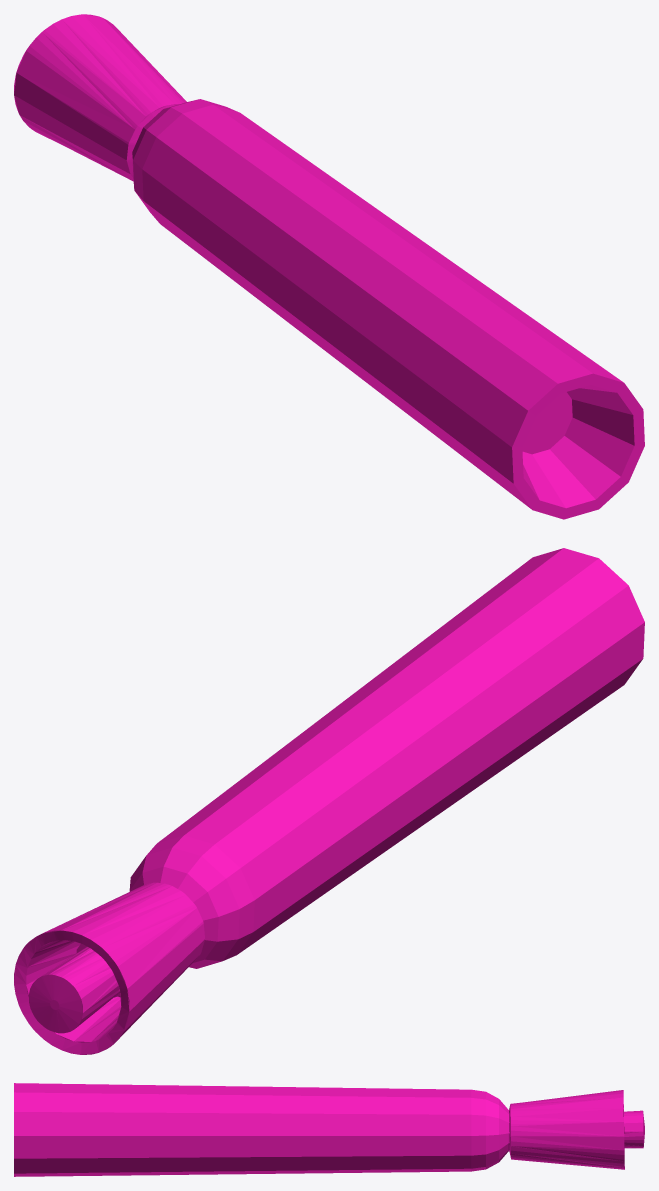
File: pen2_5.dae
3 views of the same model, one above another, from view 1: azimuth 30°, elevation 25°; view 2: azimuth 150°, elevation 25°; view 3: azimuth 270°, elevation 25° (orthographic). The views are drawn at different scales.
Parts seen in each view (by area): view 1: pen2_019; view 2: pen2_019; view 3: pen2_019.
Boxes of the visible parts, <box> form: pen2_019: <box>14,14,644,519</box>; pen2_019: <box>14,548,644,1054</box>; pen2_019: <box>14,1083,644,1176</box>.
Bounding box in the file's own units: 0.038 × 0.2596 × 0.038.
